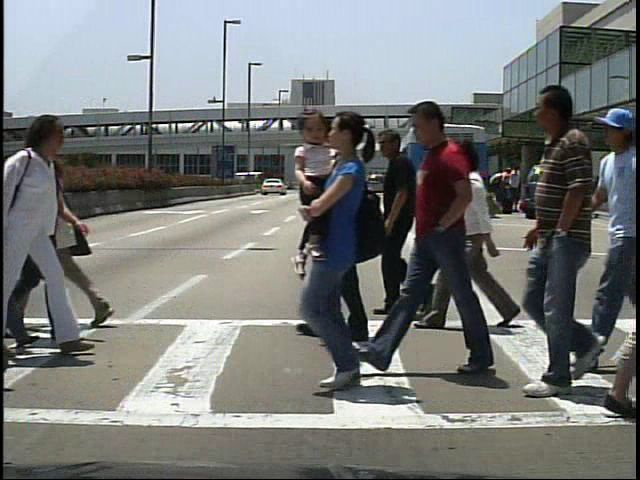person: (520, 84, 606, 408), (405, 99, 503, 371), (295, 120, 398, 347), (1, 113, 90, 366), (27, 112, 116, 336), (442, 138, 516, 340), (365, 130, 438, 322), (582, 168, 602, 218), (493, 164, 511, 217), (506, 166, 525, 215)
